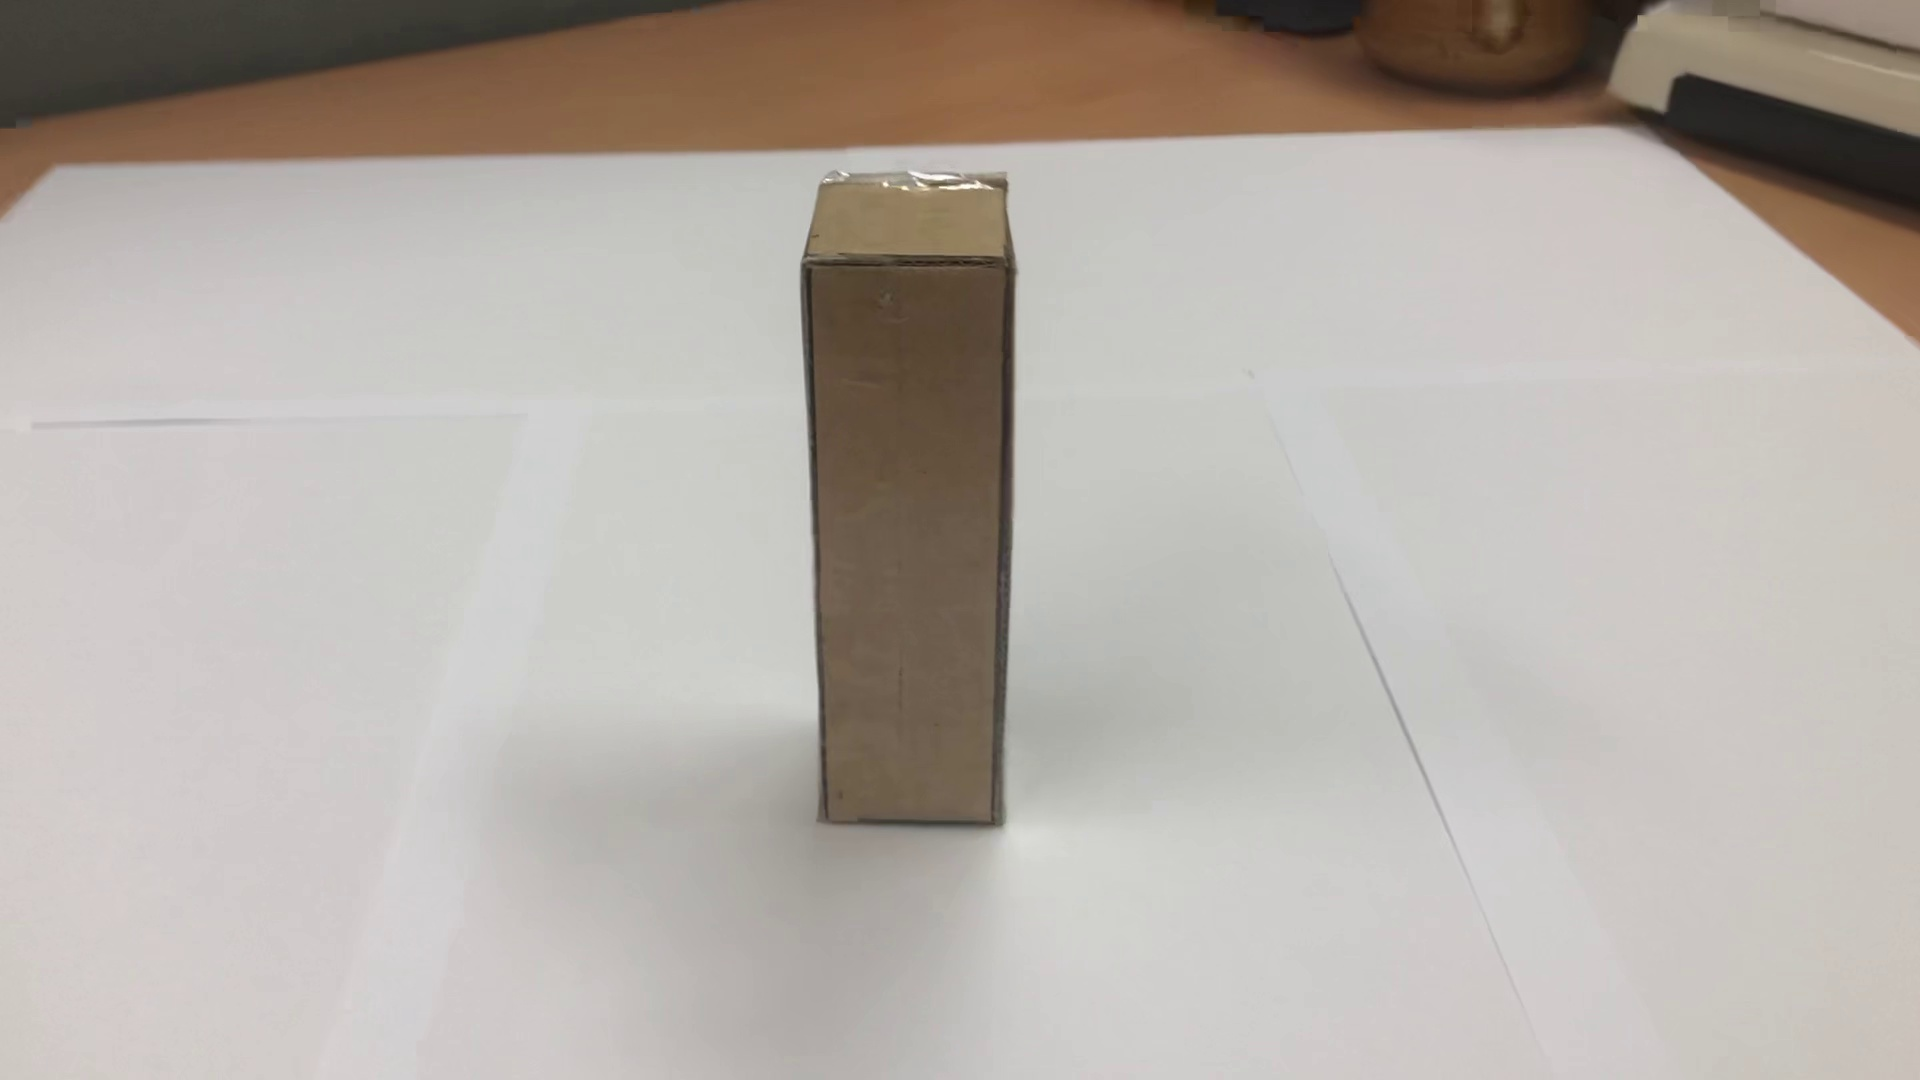box: (767, 148, 1072, 864)
